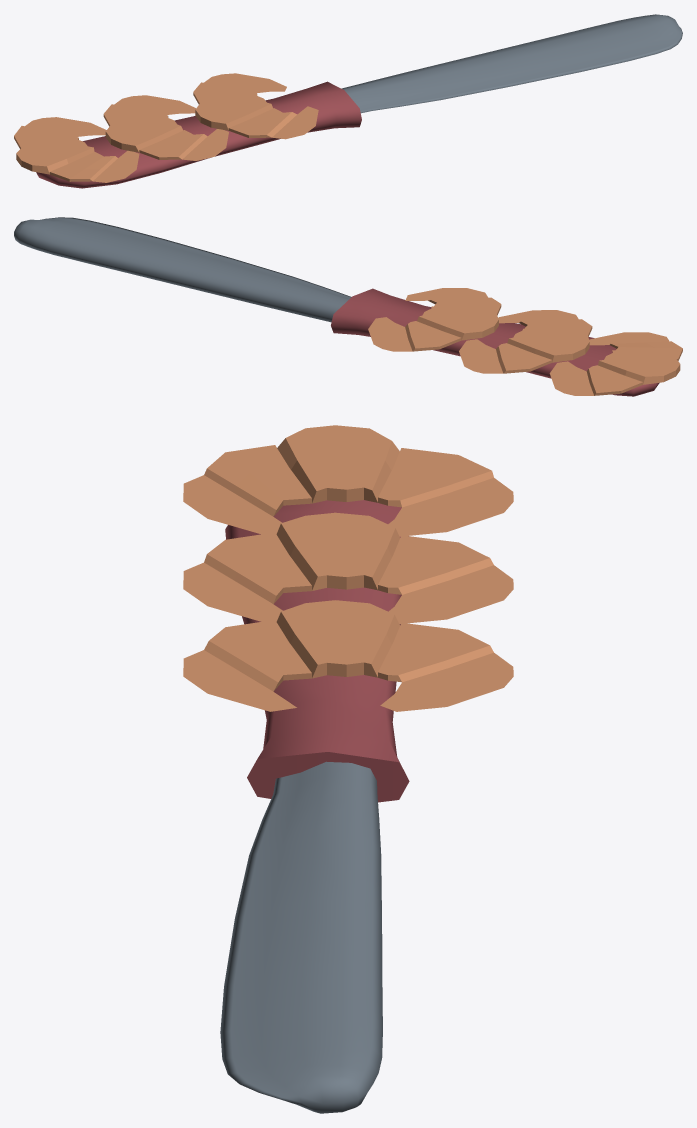
File: SM_Knife.fbx
3 renders of one model, top to bottom at view 1: azimuth 30°, elevation 25°; view 2: azimuth 150°, elevation 25°; view 3: azimuth 270°, elevation 25°, orthographic. The views are drawn at different scales.
Visible parts, largest first — view 1: Plane.004, Plane.005, Plane.011, Plane.029, Plane.028; view 2: Plane.004, Plane.011, Plane.028, Plane.029, Plane.005; view 3: Plane.004, Plane.029, Plane.028, Plane.011, Plane.005.
Part boxes in pixels (x1,y1,x2,y2): Plane.004: [341, 14, 682, 113]; Plane.005: [36, 81, 361, 188]; Plane.011: [14, 117, 139, 182]; Plane.029: [193, 73, 318, 139]; Plane.028: [103, 95, 228, 160]; Plane.004: [14, 217, 351, 322]; Plane.011: [549, 332, 682, 395]; Plane.028: [459, 310, 592, 373]; Plane.029: [368, 288, 501, 351]; Plane.005: [331, 288, 659, 396]; Plane.004: [220, 761, 382, 1113]; Plane.029: [183, 600, 513, 711]; Plane.028: [183, 512, 513, 624]; Plane.011: [183, 425, 513, 536]; Plane.005: [225, 500, 409, 802].
Bounding box in the file's own units: 37.35 × 1.92 × 8.19.
